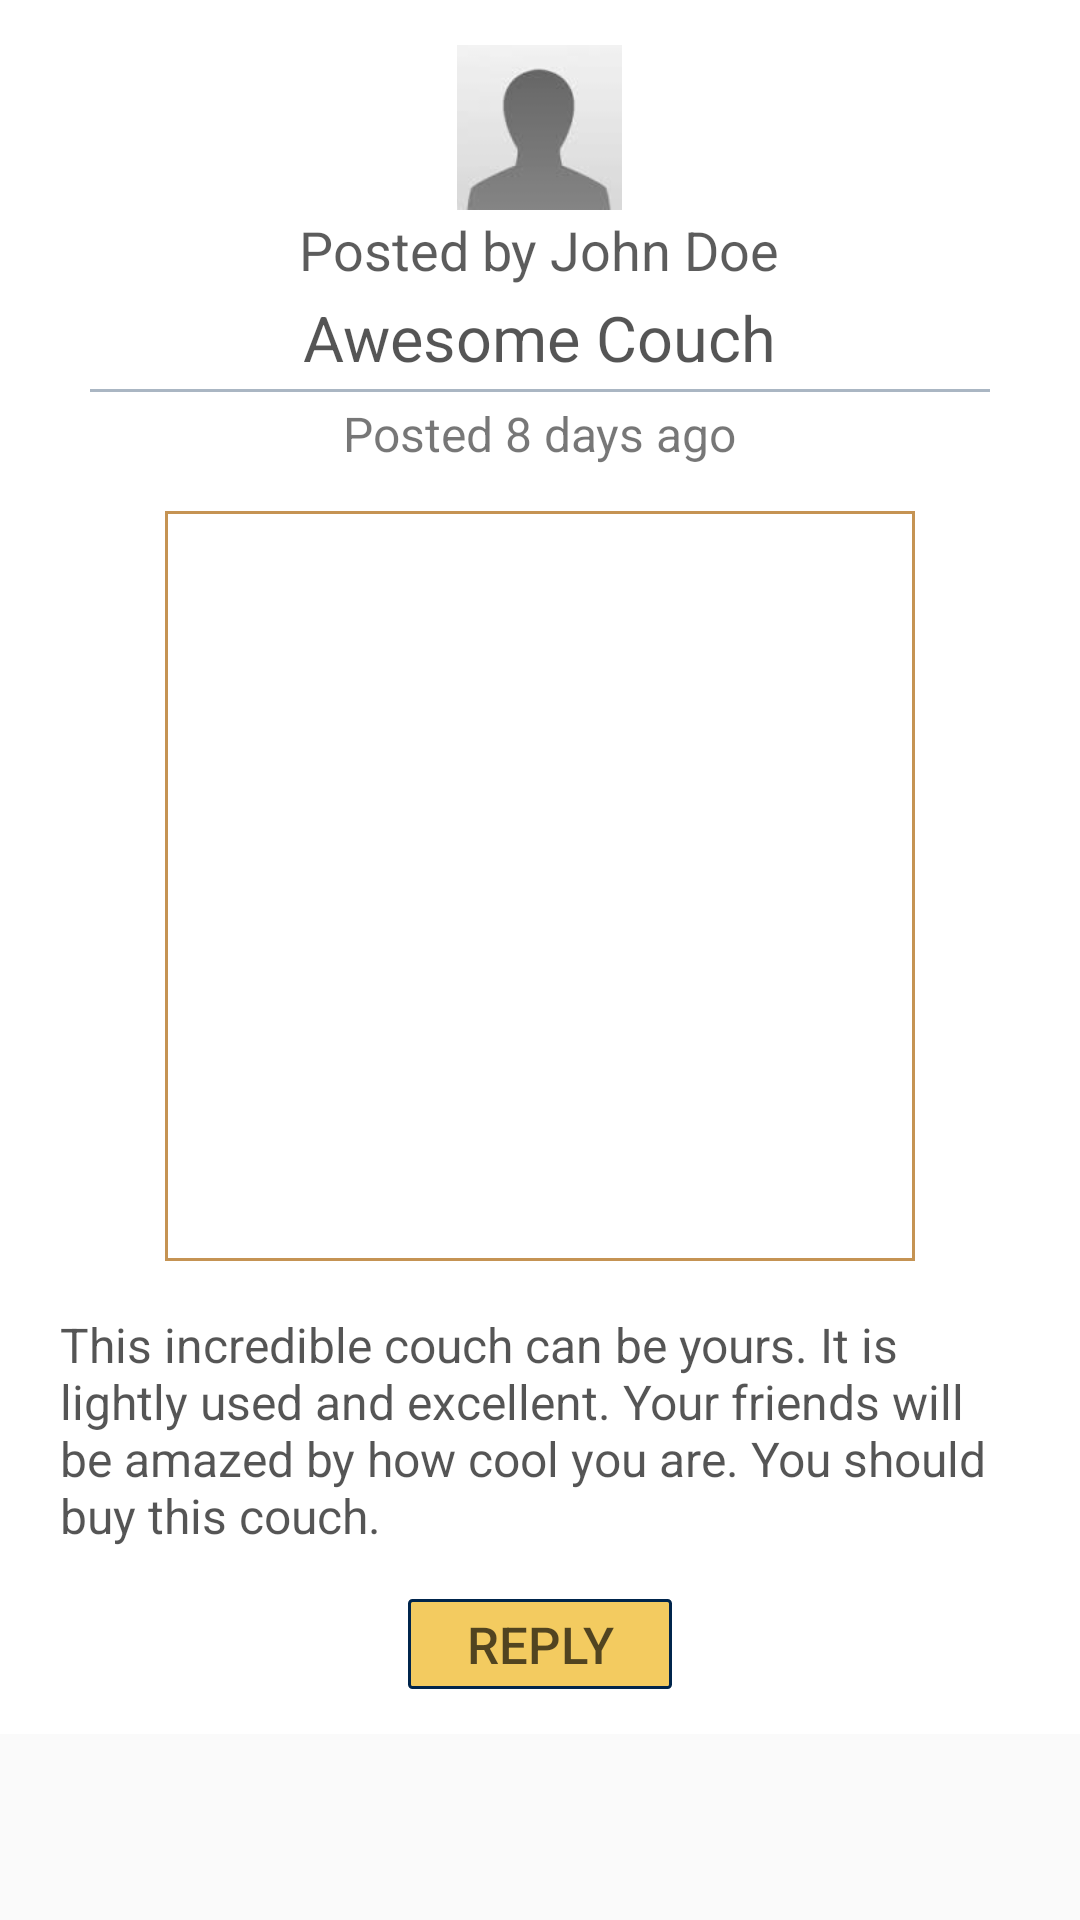

Locate icon controls on the screen. Image size 1080 x 1920, boxes as (x1, y1, x2, y2).
profile: (457, 68, 622, 210)
